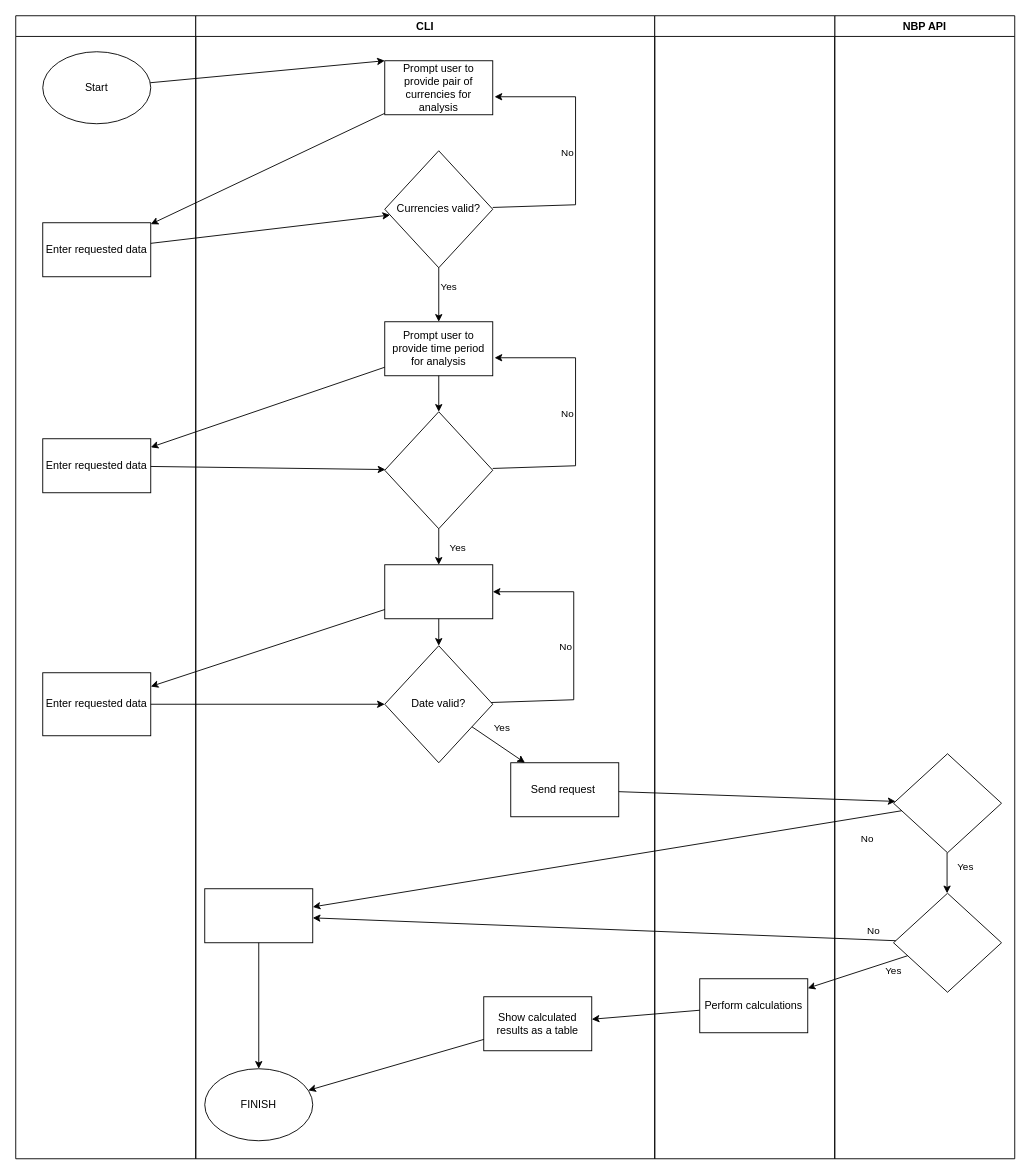
This 1031x1175 diagram has some shape labels left out. The shapes that lost their labels are listed below. From the top down, each one's box as (x1, y1, x2, y2) in pixels, then its label:
(384, 411, 493, 529): Period valid?
(15, 15, 196, 1159): User
(384, 564, 493, 619): Prompt user to provide start date for analysis
(654, 15, 835, 1159): Data processor
(893, 753, 1002, 853): Is available?
(204, 888, 313, 943): Show error message
(893, 892, 1002, 992): Is data correct?
